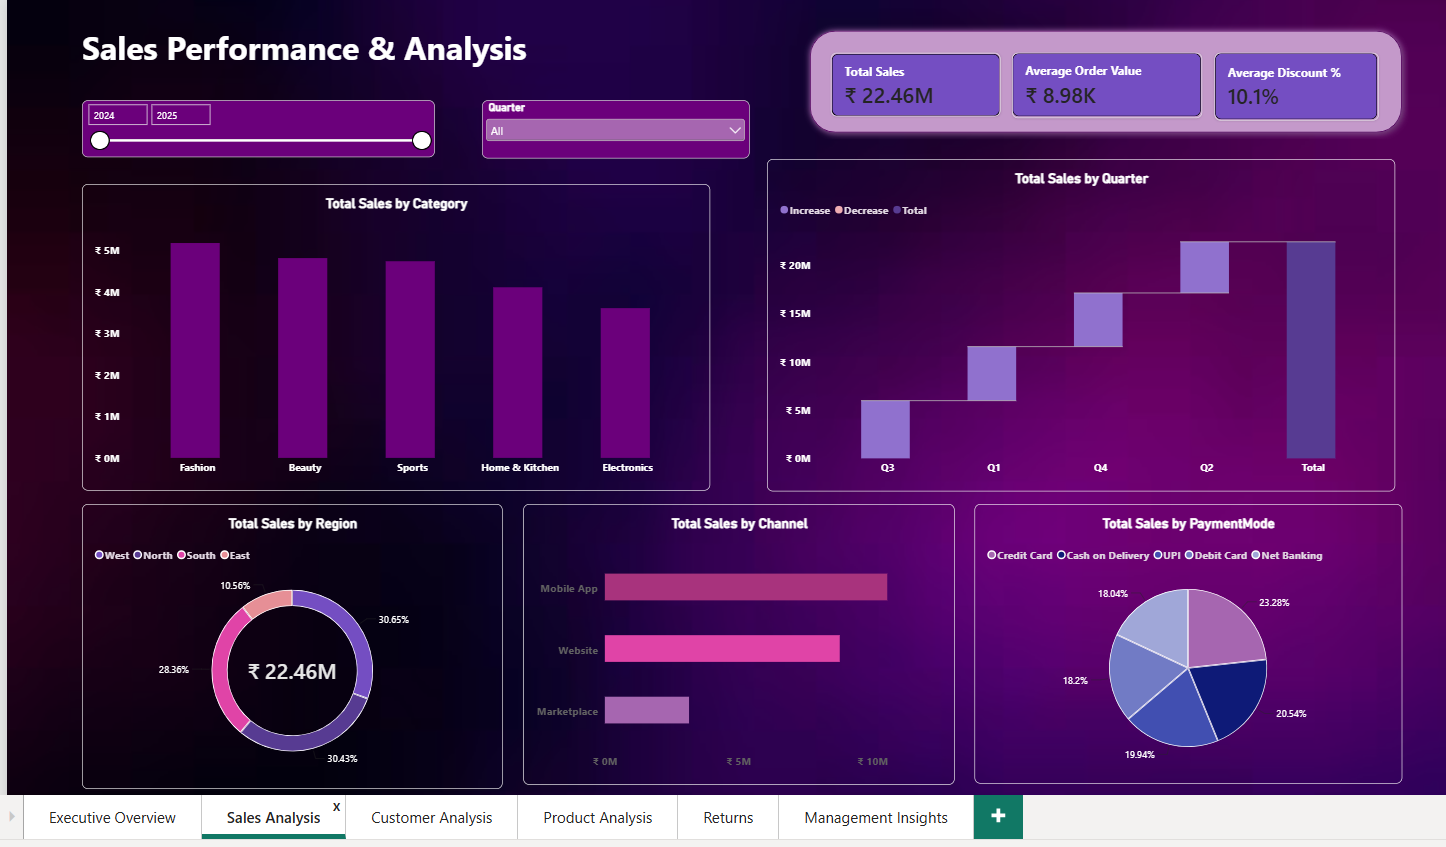

This screenshot's page, from the dashboard's own definition file:
{"tool":"powerbi","page":{"name":"Sales Analysis","canvas":[1920,1080],"ordinal":1},"visuals":[{"type":"shape","box":[1061.4,33.7,807.1,153.8],"z":0,"group":"g1"},{"type":"pieChart","fields":{"Category":["Orders.PaymentMode"],"Y":["Customers.Total Sales"]},"box":[1290.3,673.2,570,372.8],"z":0},{"type":"cardVisual","fields":{"Data":["Customers.Total Sales"]},"box":[1098.2,71.7,226.2,85.1],"z":1000,"group":"g1"},{"type":"barChart","fields":{"Category":["Orders.Channel"],"Y":["Customers.Total Sales"]},"box":[687.7,673.2,575.5,374.6],"z":1000},{"type":"cardVisual","fields":{"Data":["Customers.Average Discount %"]},"box":[1609.5,71.7,218.9,90.5],"z":2000,"group":"g1"},{"type":"columnChart","fields":{"Category":["Products.Category"],"Y":["Customers.Total Sales"]},"box":[99.5,246.1,837.9,409],"z":2000},{"type":"cardVisual","fields":{"Data":["Customers.Average Order Value"]},"box":[1339.1,71.7,253.8,86.9],"z":3000,"group":"g1"},{"type":"slicer","fields":{"Values":["Date.Year"]},"box":[99.5,135.7,470.5,76],"z":3000},{"type":"slicer","fields":{"Values":["Date.Quarter"]},"box":[633.4,135.7,356.5,77.8],"z":4000},{"type":"donutChart","fields":{"Category":["Regions.Region"],"Y":["Customers.Total Sales"]},"box":[99.5,673.2,561,380],"z":5000},{"type":"waterfallChart","fields":{"Category":["Date.Quarter"],"Y":["Customers.Total Sales"]},"box":[1013.4,213.5,837.9,443.4],"z":6000},{"type":"textbox","box":[99.5,34.4,749.2,63.3],"z":7000},{"type":"group","id":"g1","title":"Group 1","box":[1061.4,33.7,807.1,153.8],"z":8000}]}

Visuals, with their boxes on the page's 1920x1080 design canvas (x1, y1, x2, y2). These are canvas units, not pixel positions in the 1446x847 screenshot, which may show the page scaled, cropped or inside an application window:
shape: rect(1061, 34, 1868, 188)
pieChart - Orders.PaymentMode x Customers.Total Sales: rect(1290, 673, 1860, 1046)
cardVisual - Customers.Total Sales: rect(1098, 72, 1324, 157)
barChart - Orders.Channel x Customers.Total Sales: rect(688, 673, 1263, 1048)
cardVisual - Customers.Average Discount %: rect(1610, 72, 1828, 162)
columnChart - Products.Category x Customers.Total Sales: rect(100, 246, 937, 655)
cardVisual - Customers.Average Order Value: rect(1339, 72, 1593, 159)
slicer - Date.Year: rect(100, 136, 570, 212)
slicer - Date.Quarter: rect(633, 136, 990, 214)
donutChart - Regions.Region x Customers.Total Sales: rect(100, 673, 660, 1053)
waterfallChart - Date.Quarter x Customers.Total Sales: rect(1013, 214, 1851, 657)
textbox: rect(100, 34, 849, 98)
"Group 1" group: rect(1061, 34, 1868, 188)
